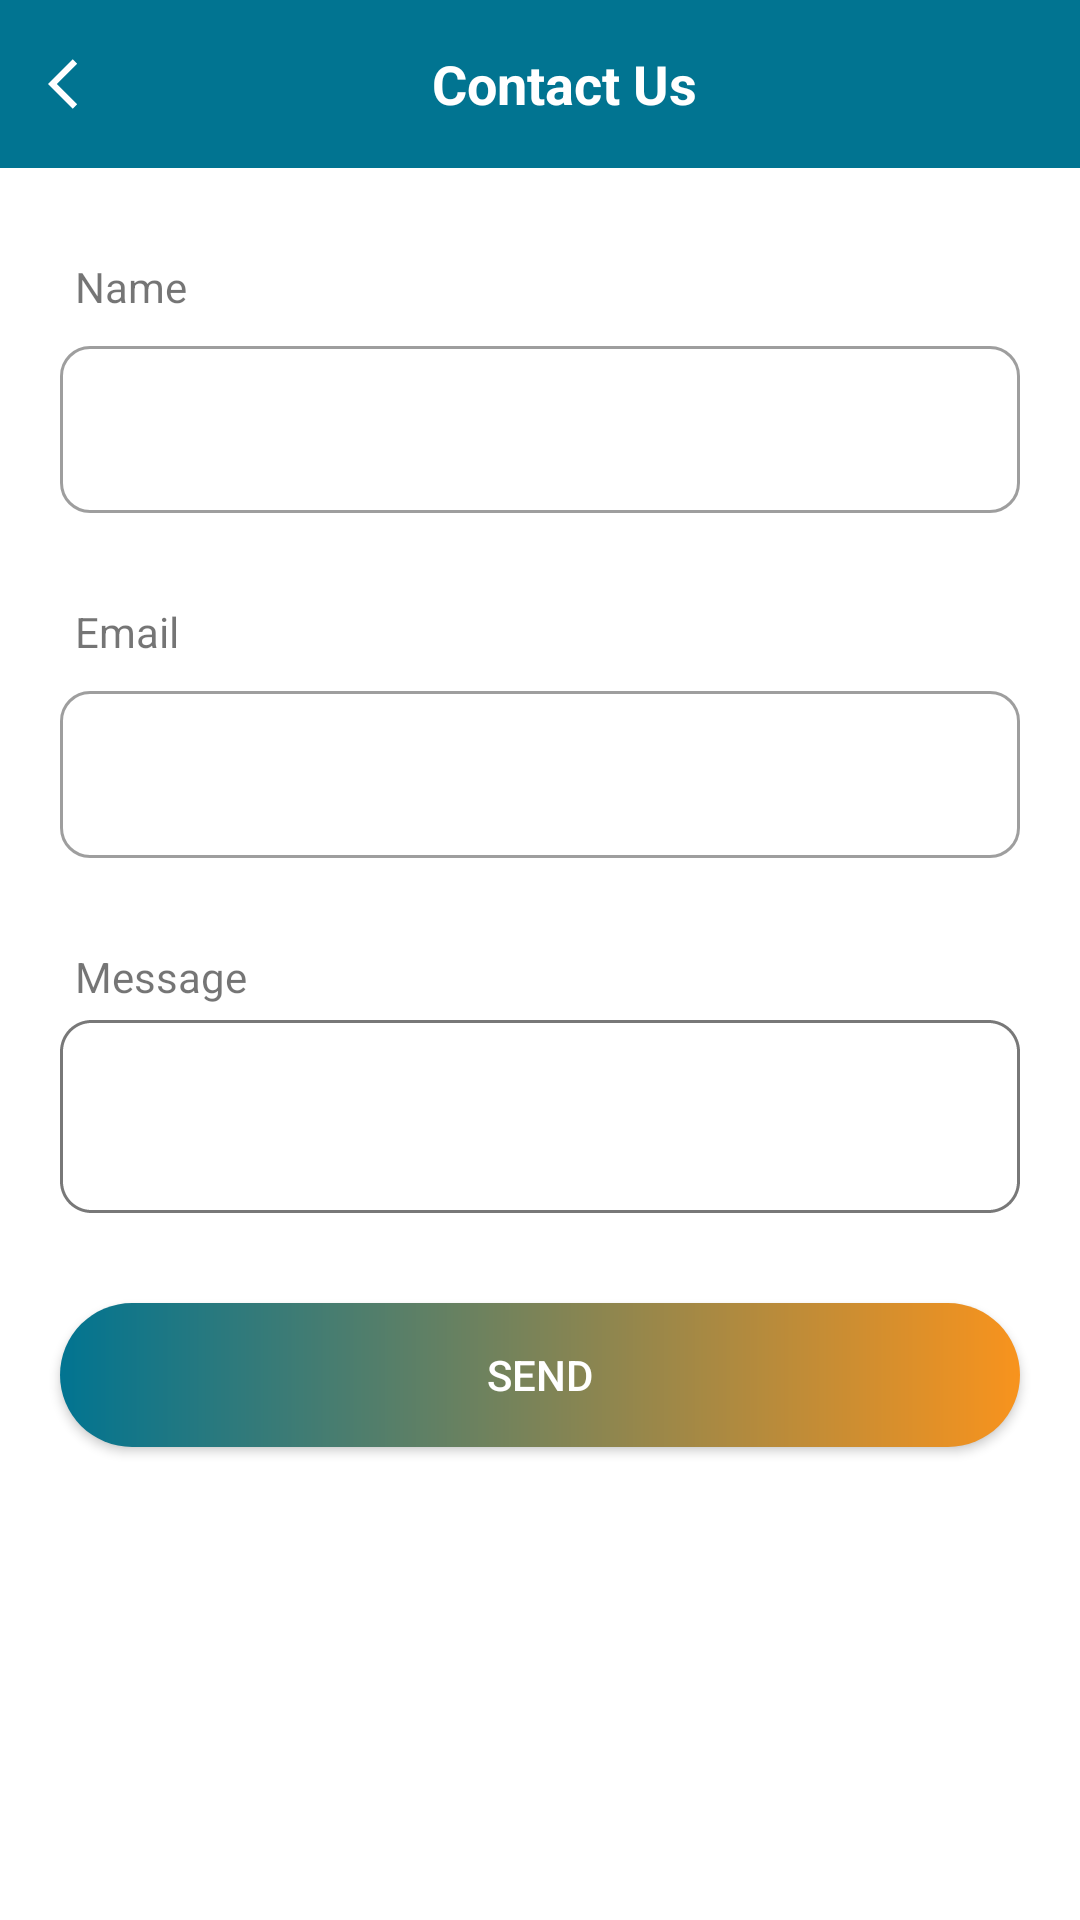

Locate icon controls on the screen. Image size 1080w x 1920h, boxes as BBox(x1, y1, x2, y2).
arrow back: BBox(48, 59, 77, 109)
